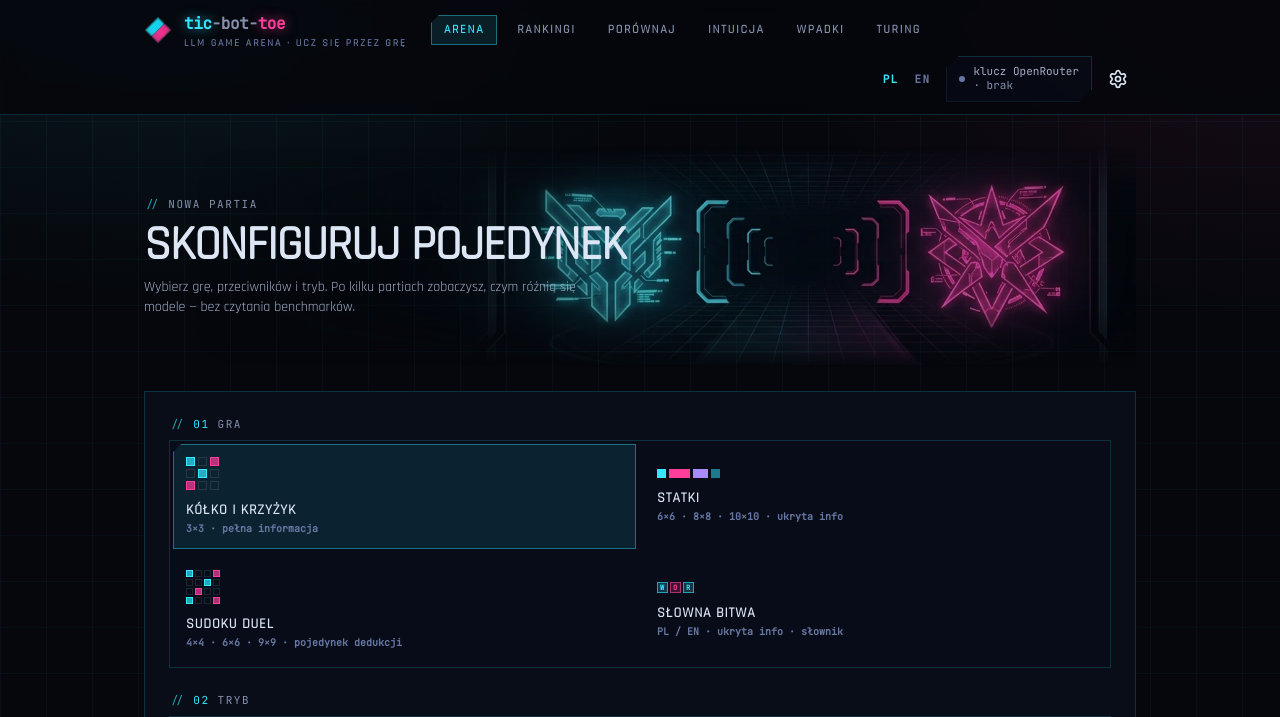
it: App › switches to battleship and reveals the variant selector
Step 1. Click the tab "Statki 6×6 · 8×8 · 10×10 · ukryta info" → (678, 498), box [644,456,1107,537]
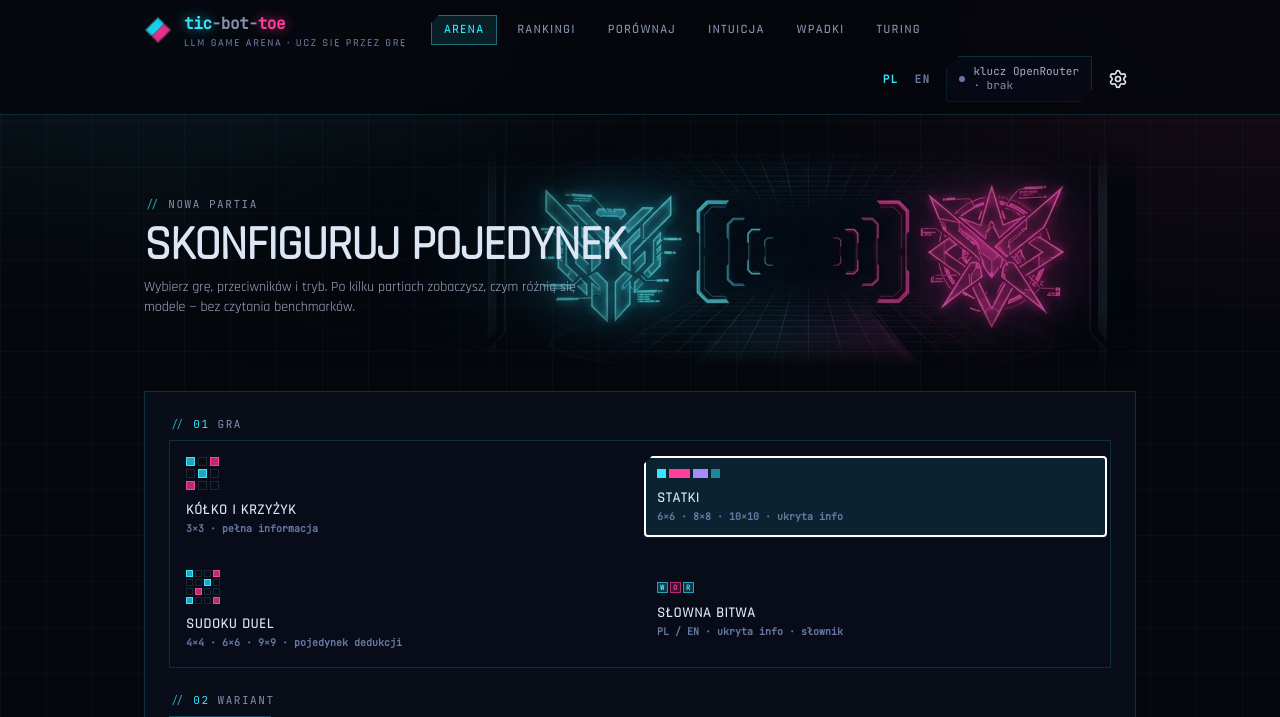
Now the text "Wariant" is shown, box [218,692,275,708]
